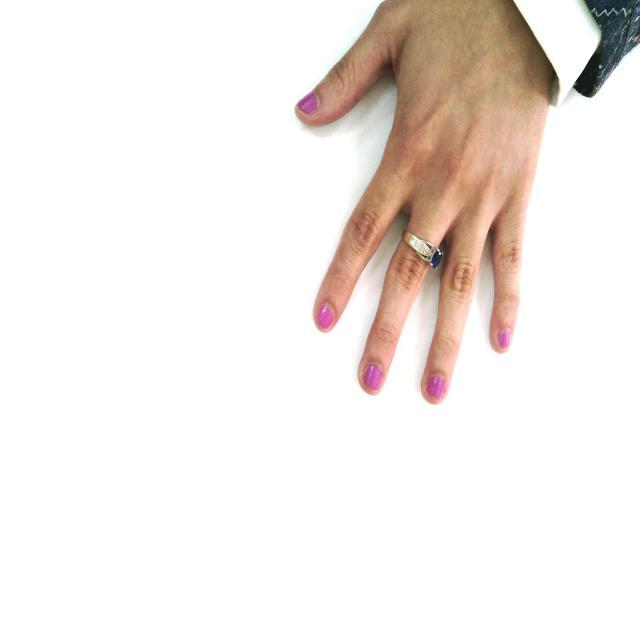Fingernail: (365, 364, 382, 390), (428, 374, 445, 398), (297, 94, 317, 114), (318, 305, 333, 330), (499, 329, 510, 350)
